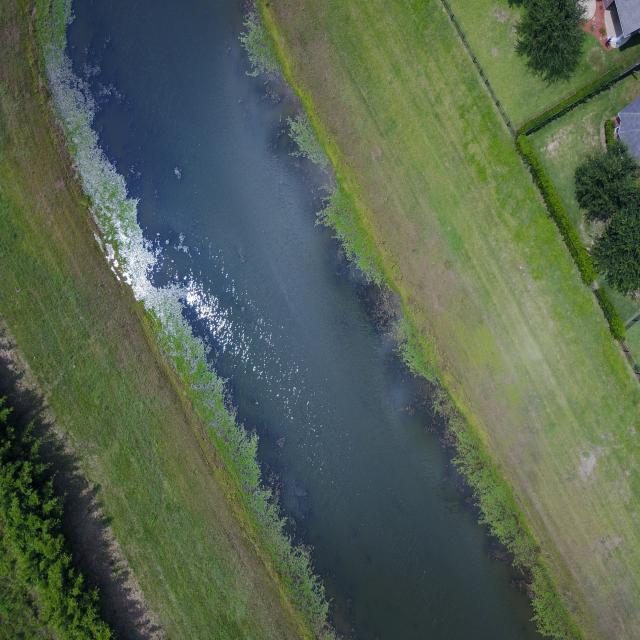fire: (66, 0, 540, 639)
